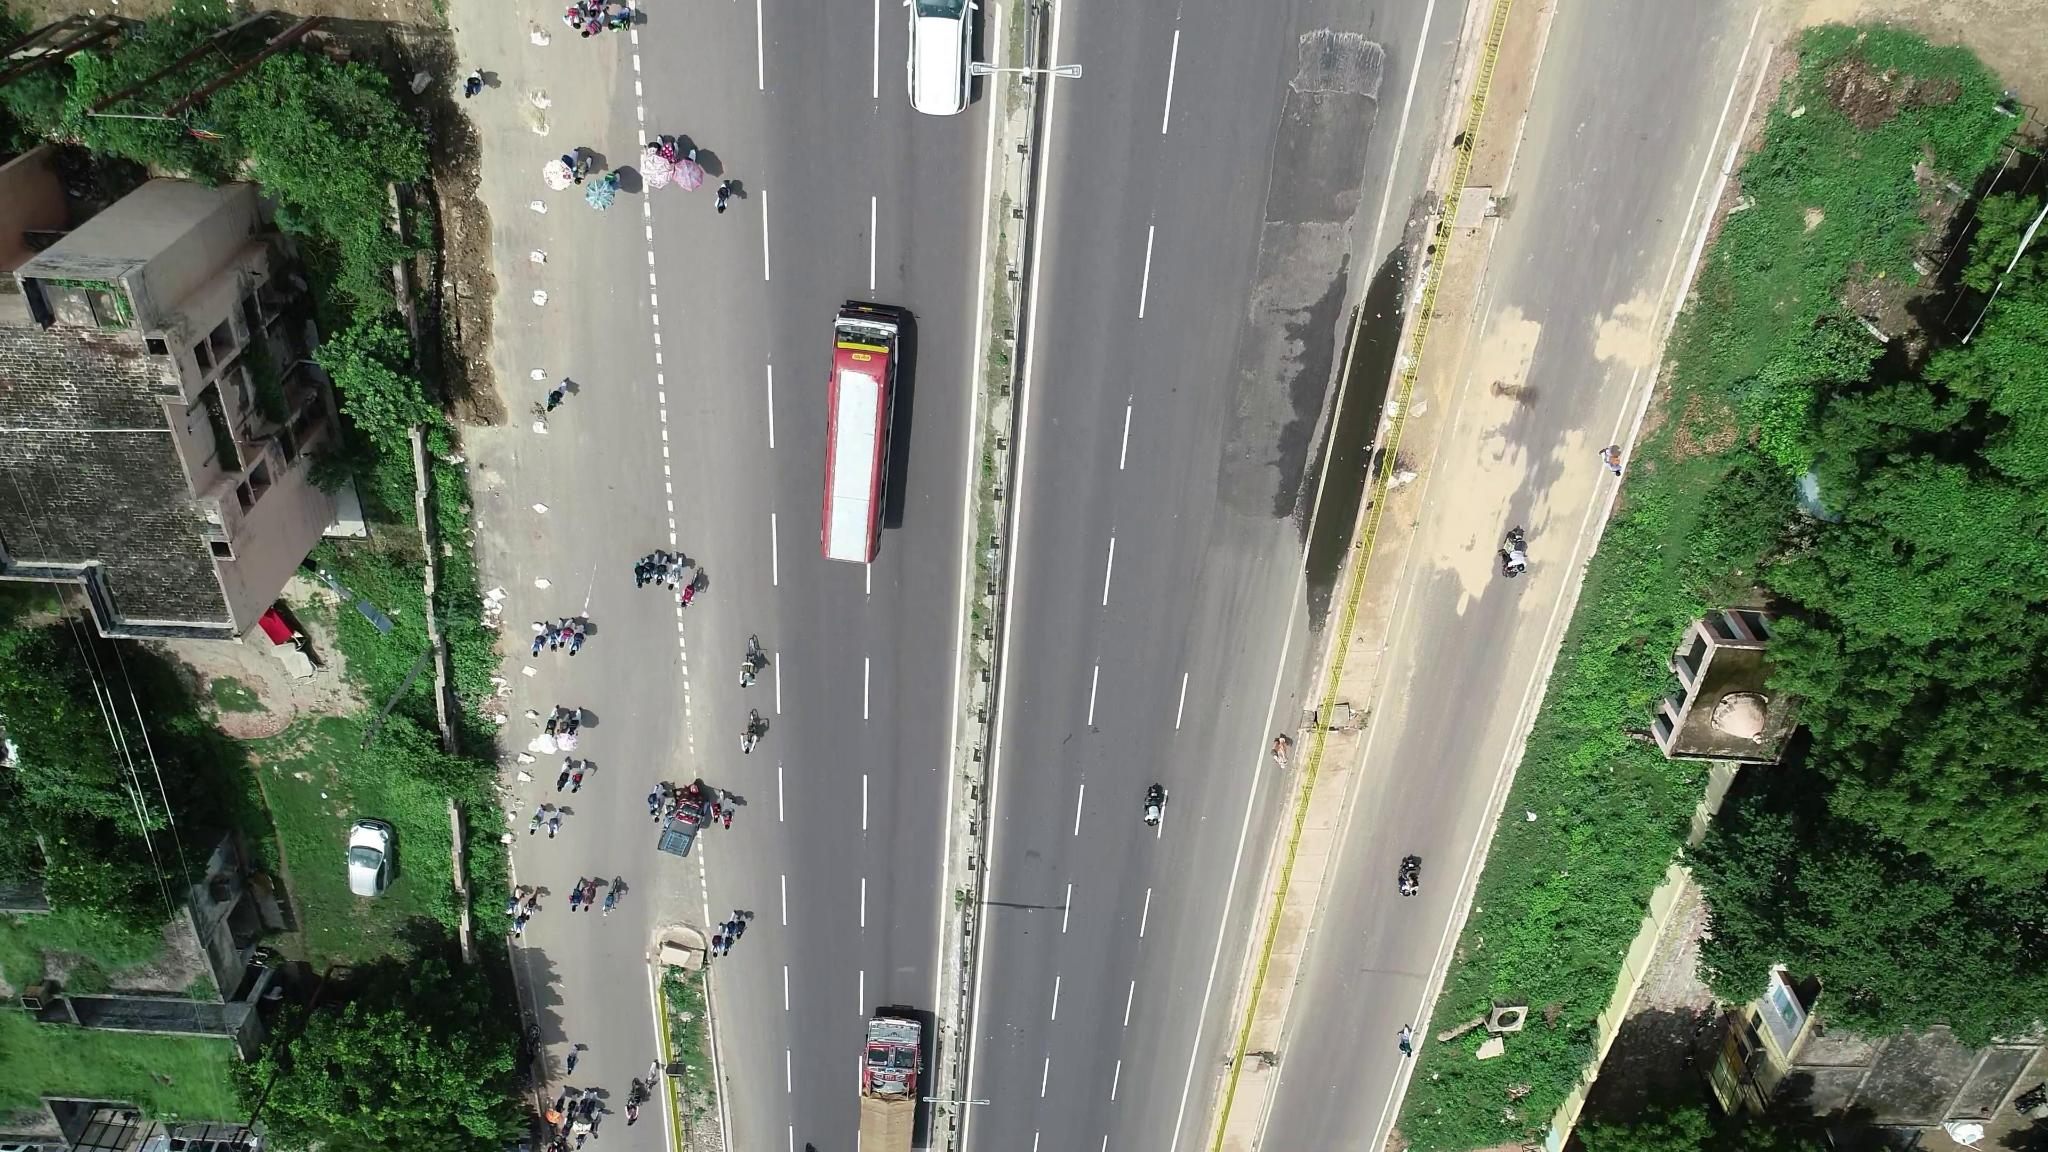Waterlogging: (1297, 280, 1415, 575)
